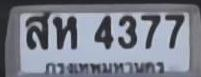3: (117, 14, 136, 48)
4: (94, 15, 112, 48)
7: (140, 14, 160, 48), (164, 13, 183, 48)
A40: (24, 11, 50, 48)
A41: (53, 15, 76, 49)
BKK: (43, 58, 167, 77)
